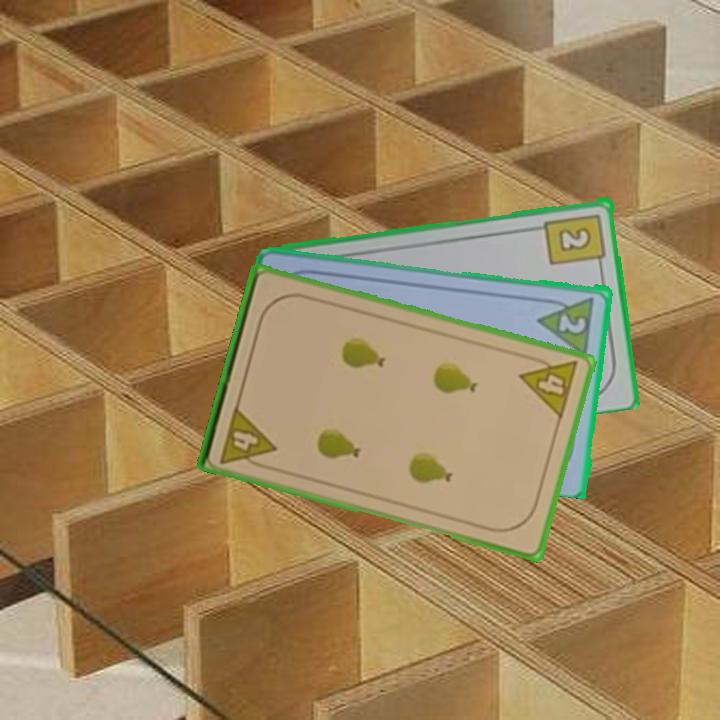2b: (542, 209, 608, 271)
2p: (555, 310, 590, 336)
4p: (516, 350, 581, 422), (216, 402, 279, 472)
